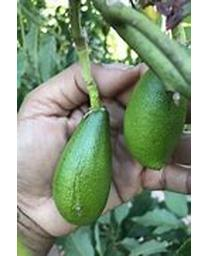avocado: (124, 45, 189, 168), (52, 106, 113, 227)
